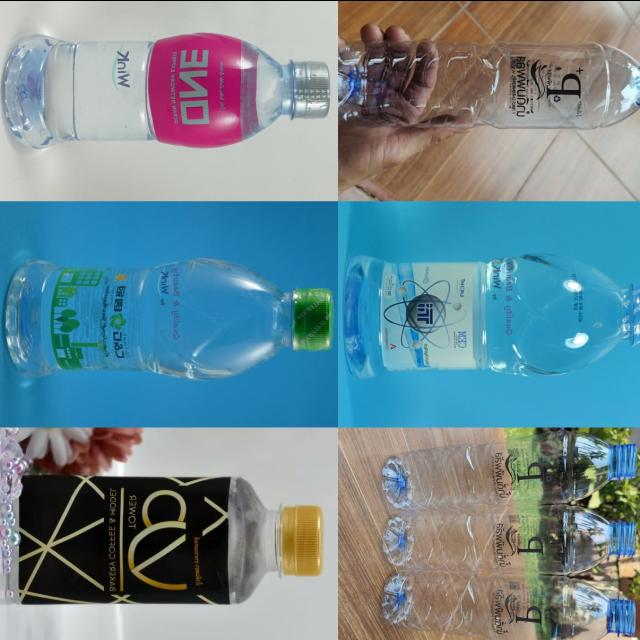plastik: (10, 475, 323, 604), (6, 258, 334, 378), (5, 32, 330, 148), (345, 254, 640, 377), (339, 39, 640, 128), (382, 429, 637, 510), (382, 569, 635, 640), (383, 504, 637, 573)
